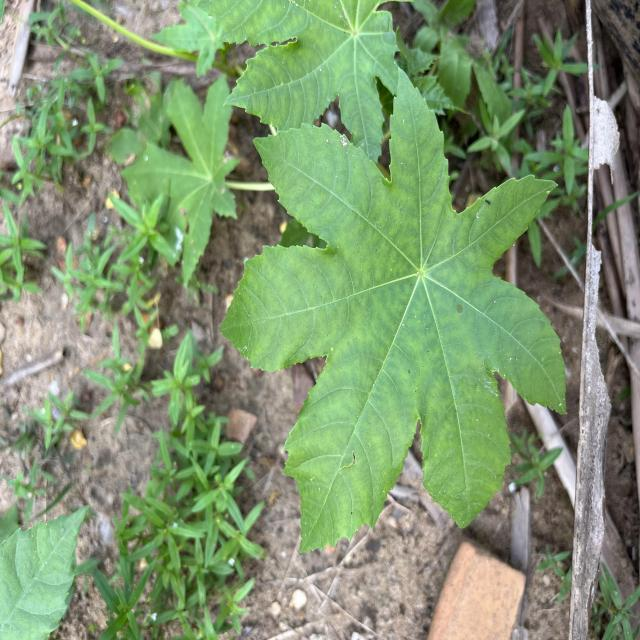Ricinus communis linn: (217, 62, 570, 562)
